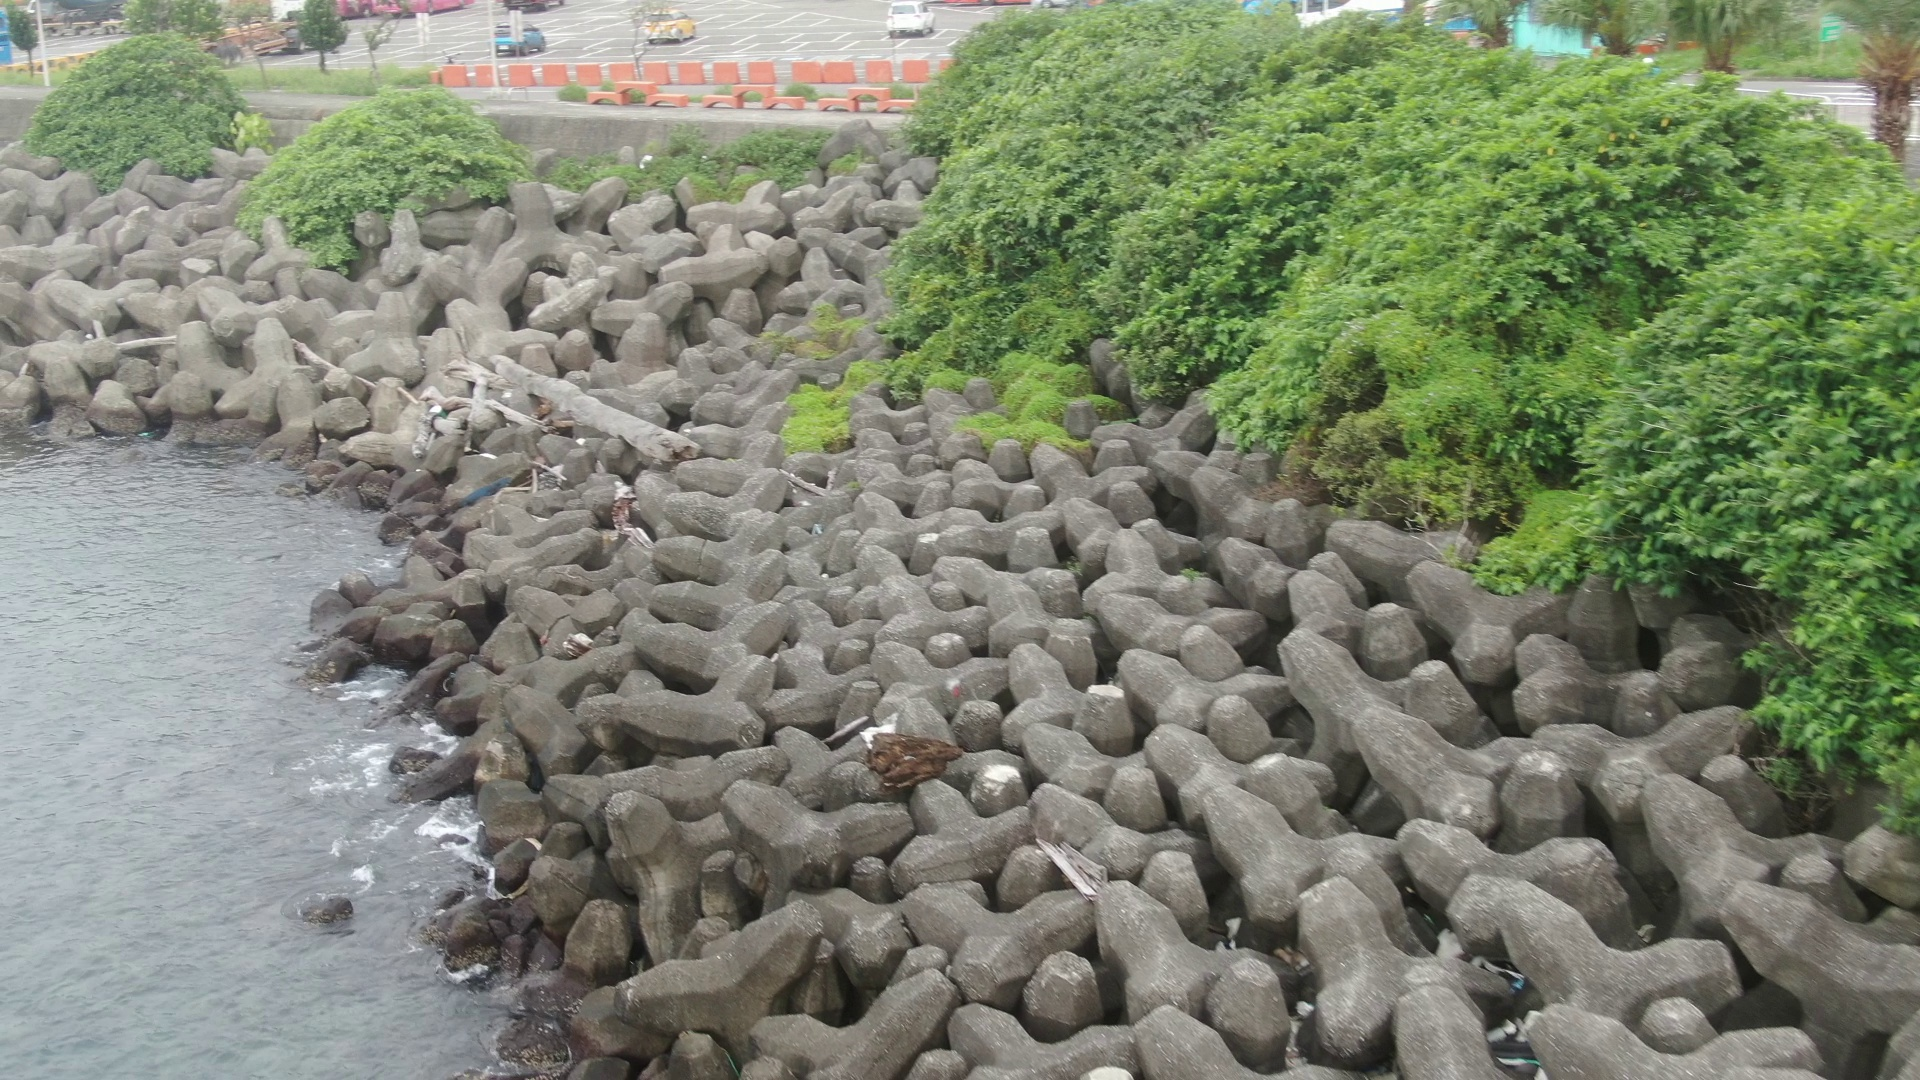garbage: (1203, 895, 1321, 1065), (1433, 927, 1564, 1080), (439, 458, 514, 517), (777, 473, 828, 545), (636, 152, 657, 170)
